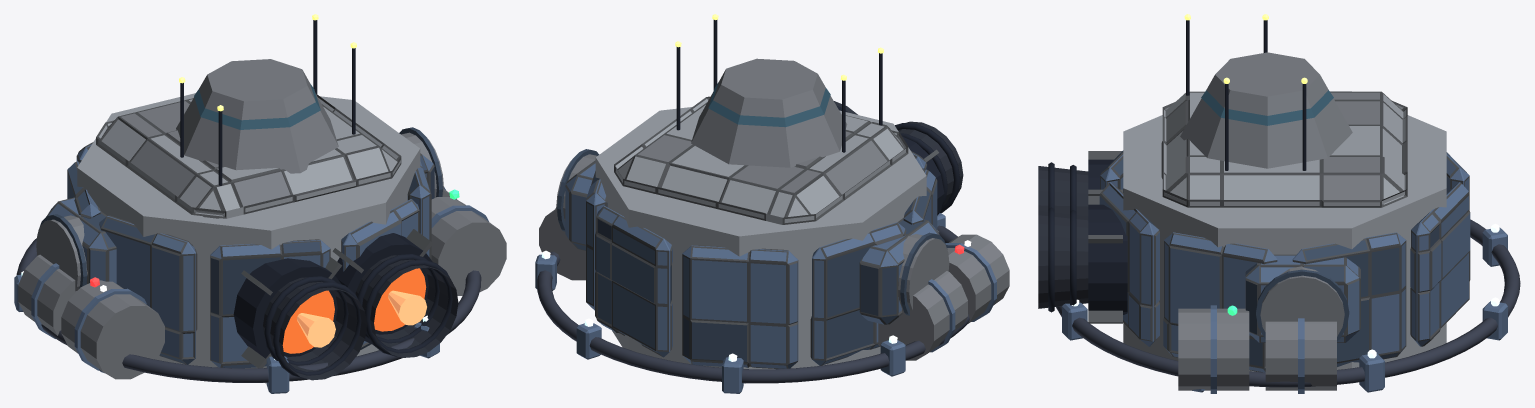
The model's file is brick.glb.
3 renders of one model, left to right at view 1: azimuth 30°, elevation 25°; view 2: azimuth 150°, elevation 25°; view 3: azimuth 270°, elevation 25°, orthographic. The views are drawn at different scales.
Parts seen in each view (by area): view 1: brick_mesh; view 2: brick_mesh; view 3: brick_mesh.
Boxes of the visible parts, x1,y1,x2,y2 form: brick_mesh: (14, 14, 506, 393); brick_mesh: (535, 14, 1009, 393); brick_mesh: (1038, 14, 1520, 393).
Bounding box in the file's own units: 7.38 × 4.95 × 7.32.
